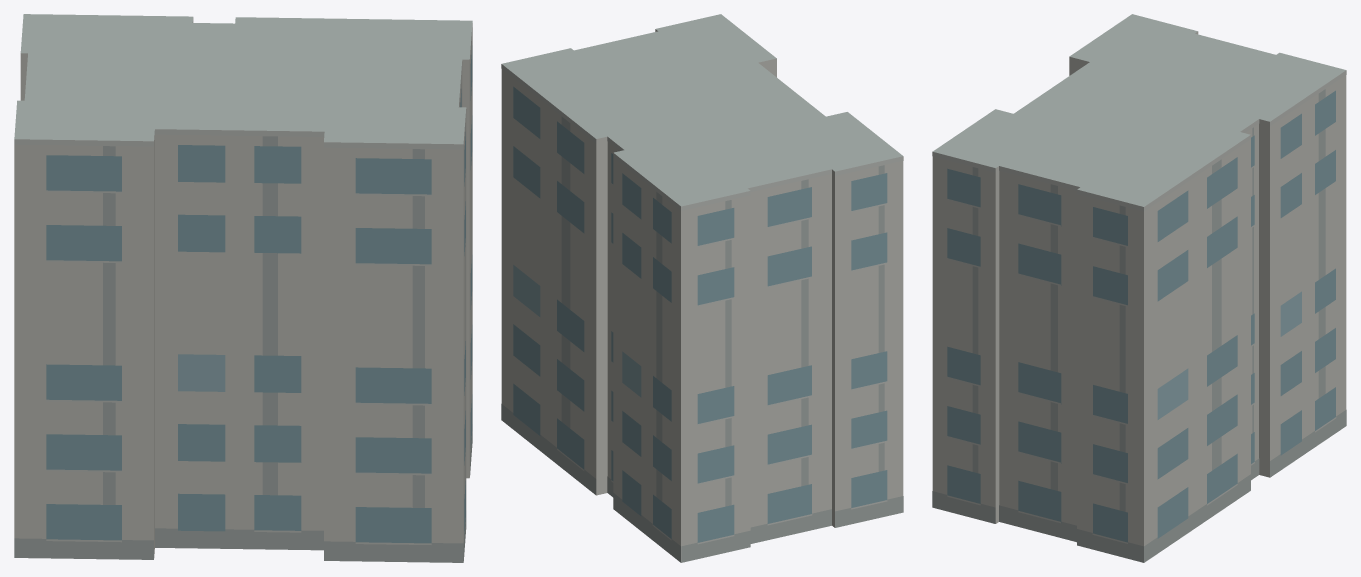
File: survey-upis-32984969.glb
3 renders of one model, left to right at view 1: azimuth 30°, elevation 25°; view 2: azimuth 150°, elevation 25°; view 3: azimuth 270°, elevation 25°, orthographic. The views are drawn at different scales.
Visible parts, largest first — view 1: survey-upis-32984969.tmp; view 2: survey-upis-32984969.tmp; view 3: survey-upis-32984969.tmp.
Part boxes in pixels (x1,y1,x2,y2): survey-upis-32984969.tmp: (14,14,472,562); survey-upis-32984969.tmp: (501,14,903,562); survey-upis-32984969.tmp: (932,14,1346,562).
Size of the model in its own units: 21.53 by 18.5 by 19.51.
